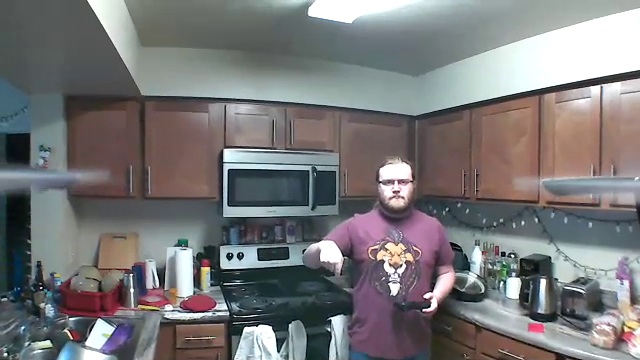down: (316, 238, 350, 281)
